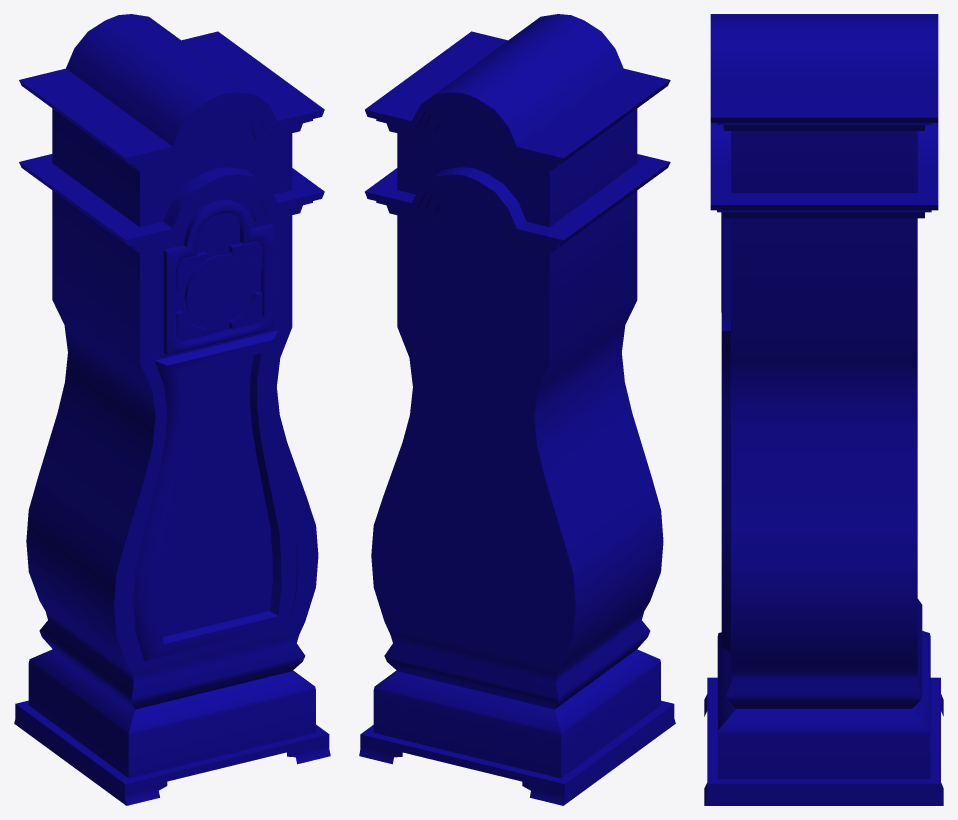
Rendered from pendule horloge_low.fbx.
3 renders of one model, left to right at view 1: azimuth 30°, elevation 25°; view 2: azimuth 150°, elevation 25°; view 3: azimuth 270°, elevation 25°, orthographic. The views are drawn at different scales.
Parts seen in each view (by area): view 1: pendule horloge_low; view 2: pendule horloge_low; view 3: pendule horloge_low.
Boxes of the visible parts, x1=… form: pendule horloge_low: x1=14, y1=14, x2=330, y2=805; pendule horloge_low: x1=359, y1=14, x2=675, y2=805; pendule horloge_low: x1=704, y1=14, x2=943, y2=805.
Size of the model in its own units: 60.27 by 57.41 by 193.
